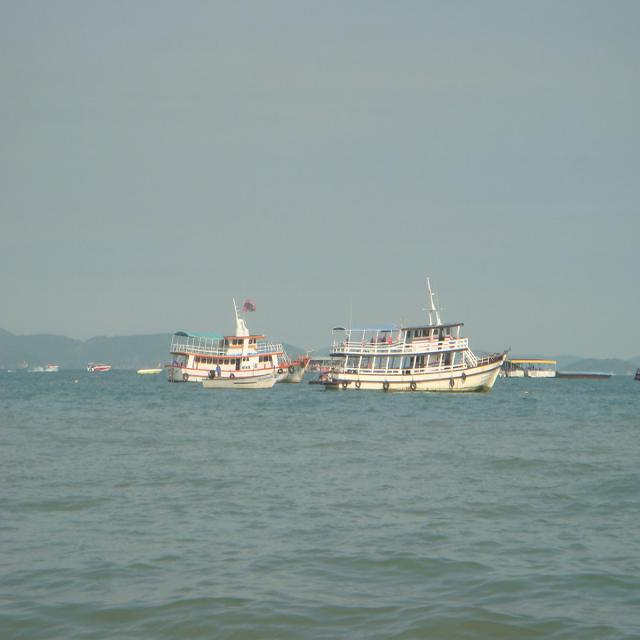houseboat: (312, 276, 514, 396), (158, 295, 302, 388)
